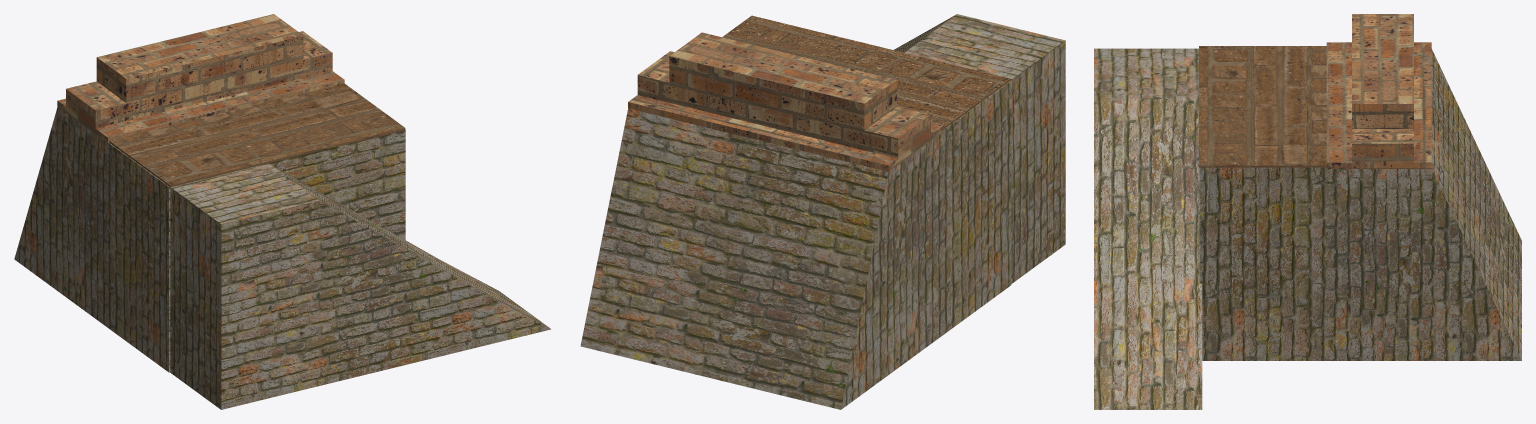
File: StairWall1.fbx
3 renders of one model, left to right at view 1: azimuth 30°, elevation 25°; view 2: azimuth 150°, elevation 25°; view 3: azimuth 270°, elevation 25°, orthographic. The views are drawn at different scales.
Visible parts, largest first — view 1: Cube.001, StoneRampartWithStair.003, Rampart.008, RampartFloor.008; view 2: StoneRampartWithStair.003, Rampart.008, Cube.001, RampartFloor.008; view 3: StoneRampartWithStair.003, Cube.001, RampartFloor.008, Rampart.008.
Boxes of the visible parts, x1,y1,x2,y2 form: Cube.001: (170,163,550,409); StoneRampartWithStair.003: (14,107,405,372); Rampart.008: (57,14,344,143); RampartFloor.008: (109,83,405,187); StoneRampartWithStair.003: (580,81,1011,409); Rampart.008: (628,32,944,171); Cube.001: (894,14,1065,283); RampartFloor.008: (722,15,1010,128); StoneRampartWithStair.003: (1199,49,1521,360); Cube.001: (1094,48,1202,409); RampartFloor.008: (1199,46,1326,167); Rampart.008: (1326,14,1431,168).
Bounding box in the file's own units: 375 × 251 × 401.
